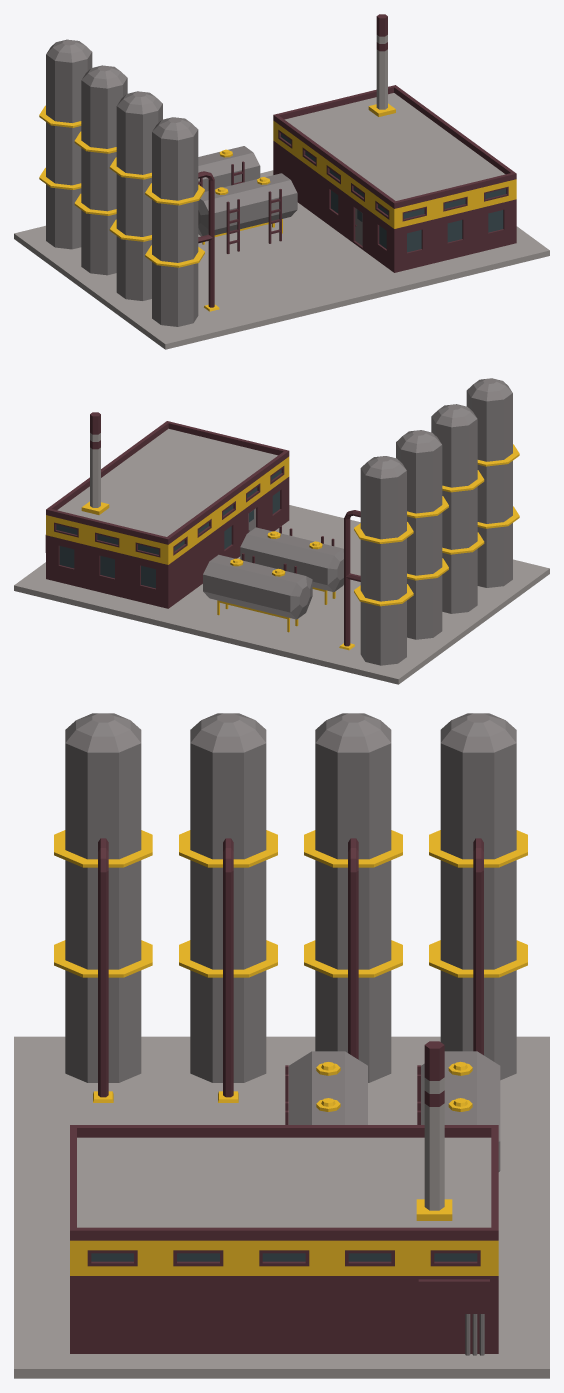
Rendered from industry-refinery.fbx.
The picture shows the model from 3 angles, top to bottom: view 1: azimuth 30°, elevation 25°; view 2: azimuth 150°, elevation 25°; view 3: azimuth 270°, elevation 25°; orthographic projection. The views are drawn at different scales.
Visible parts, largest first — view 1: industry-refinery; view 2: industry-refinery; view 3: industry-refinery.
Part boxes in pixels (<box>): industry-refinery: <box>14,14,549,349</box>; industry-refinery: <box>14,378,549,684</box>; industry-refinery: <box>14,713,549,1378</box>.
Bounding box in the file's own units: 22 × 11.07 × 15.
